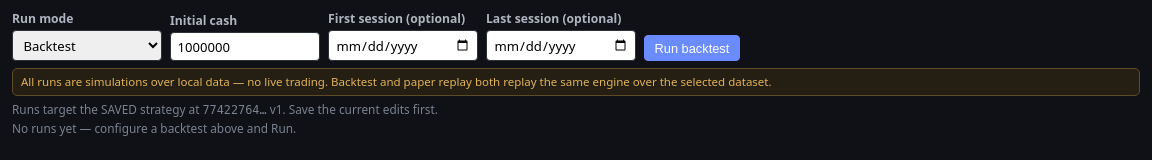
RunPanel › rejects an empty initial-cash field instead of submitting a silent $0 run (F3)
The width and height of the screenshot is (1152, 160).
Clear the number field labelled "Initial cash": (245, 47) [170,32,320,61]
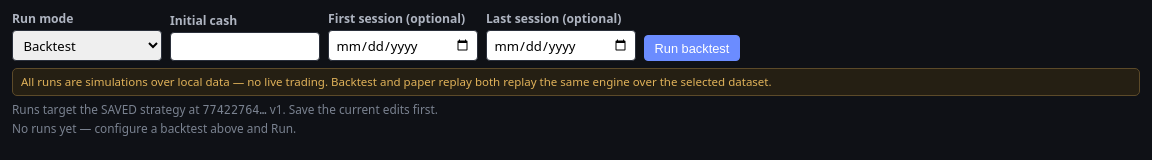
Click the button "Run backtest": (692, 48) [644,35,740,61]
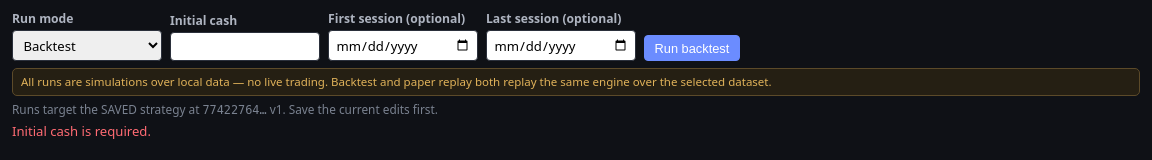
Expected: the text "Initial cash is required." is shown, [12,122,151,140]
